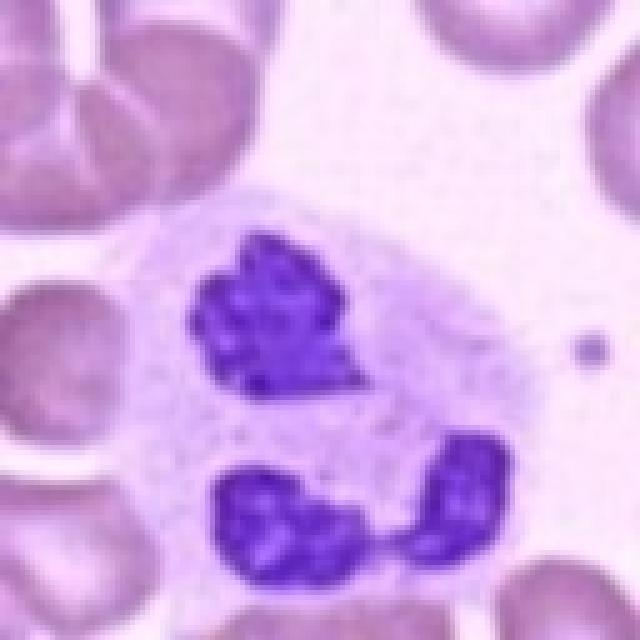neutro: (85, 83, 528, 547)
